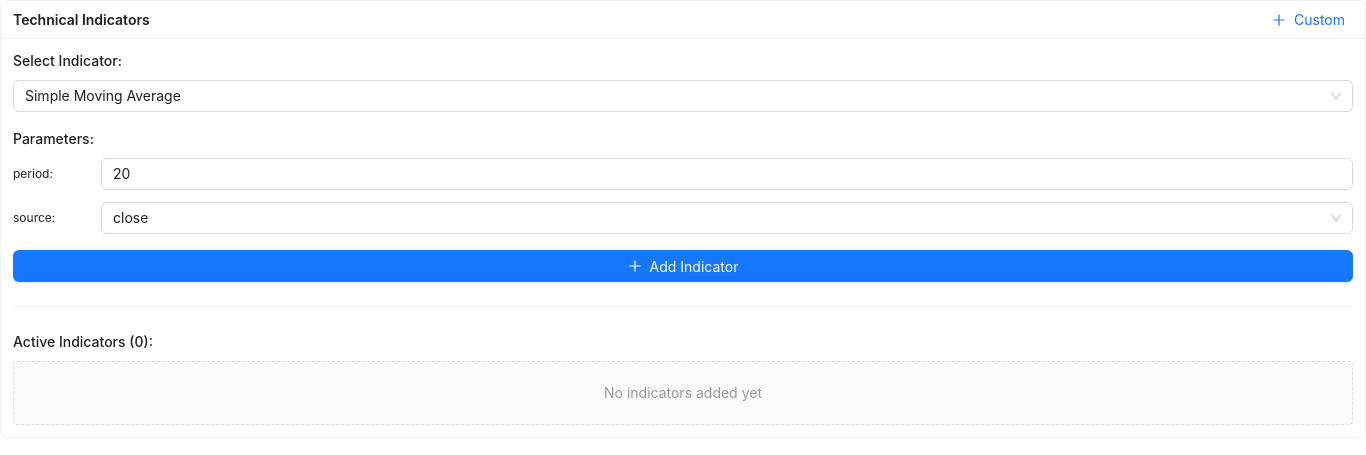
Test case: IndicatorBuilder › Managing Active Indicators › should toggle visibility when eye button clicked
# Add an indicator
Click the button "Add Indicator" at {"x": 683, "y": 266}, box [13,250,1353,282]
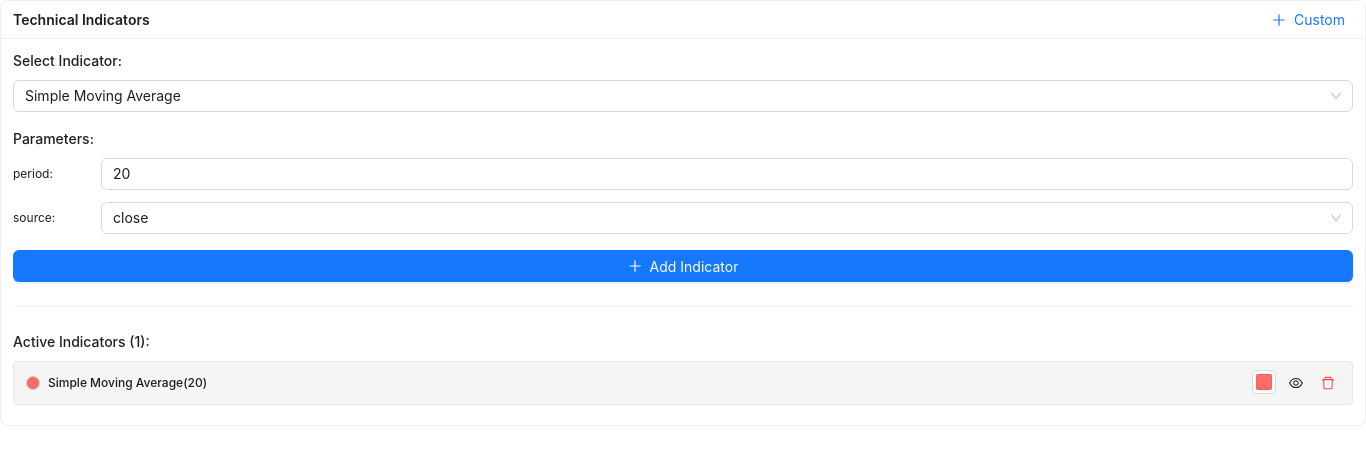
# Toggle visibility
Click the 1st button named "eye" at {"x": 1296, "y": 383}, box [1284,371,1308,395]
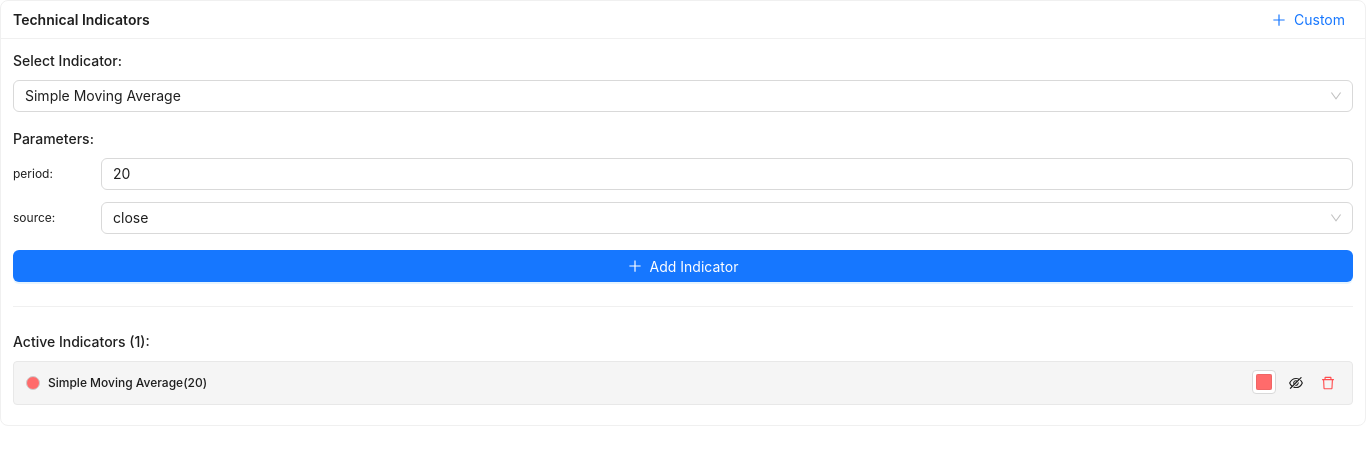
expect the picture named "eye-invisible" is shown: met, box [1289,376,1303,390]
